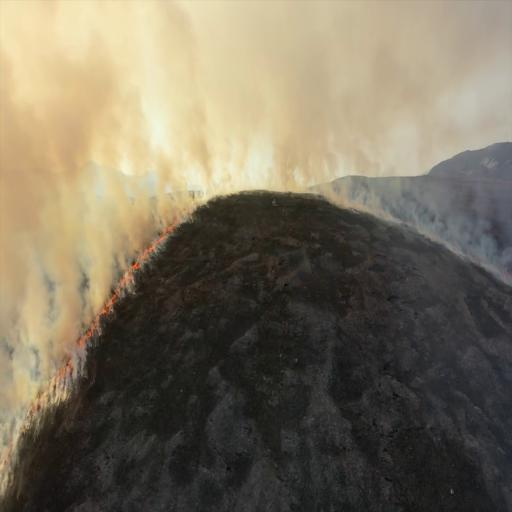smoke: (82, 221, 132, 317), (149, 148, 194, 232), (313, 149, 364, 211)
